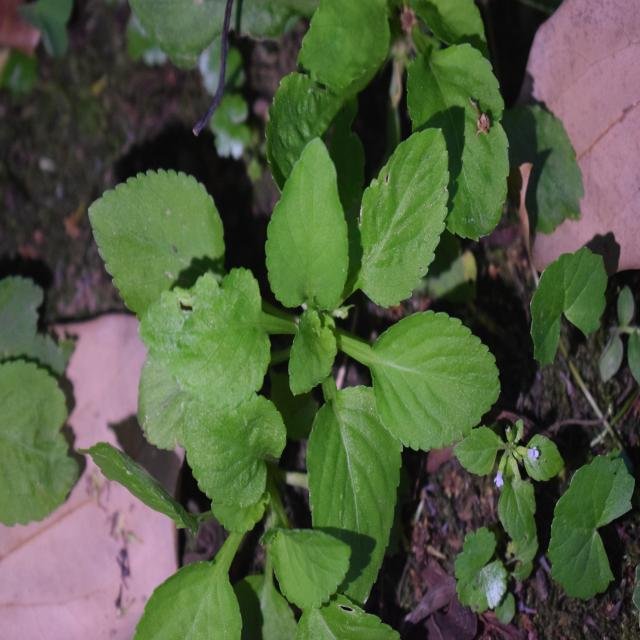Viola: (96, 130, 482, 537)
